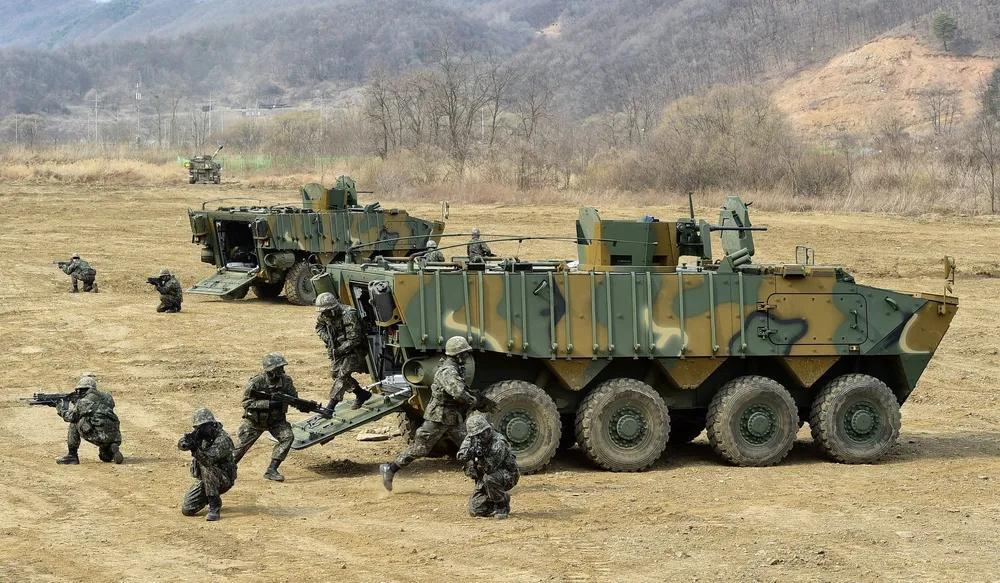MIL_IFV: (271, 193, 965, 477), (184, 176, 458, 304), (187, 146, 228, 185)
